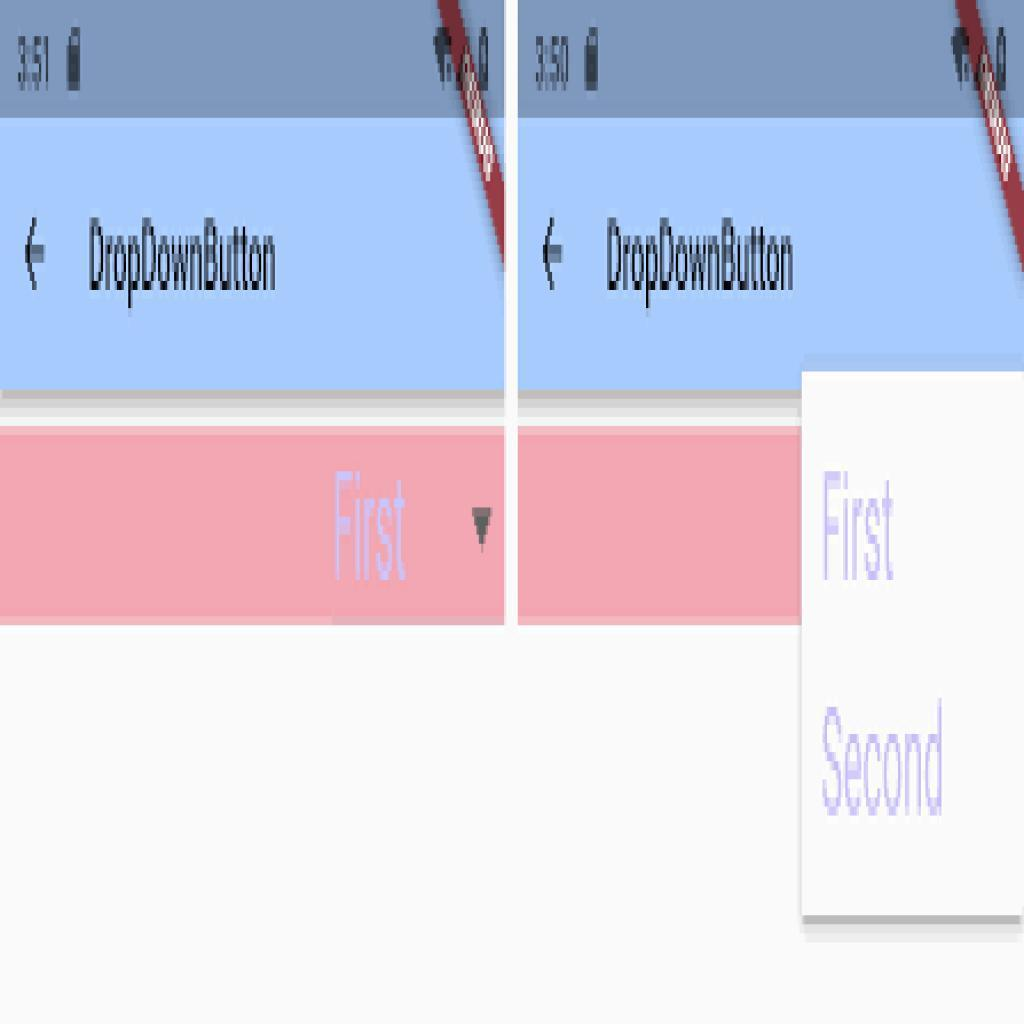dropdown: (1, 435, 505, 622)
icon: (15, 214, 57, 292), (535, 214, 571, 301)
